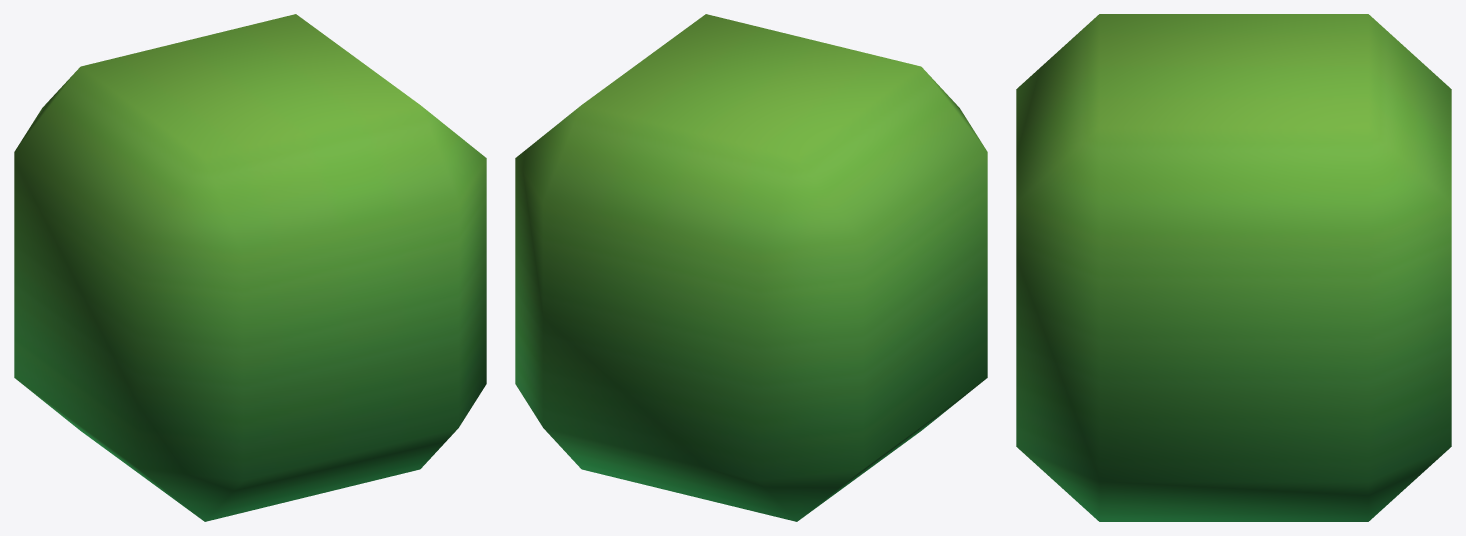
File: bush_2_a_color1.glb
3 views of the same model, side by side, from view 1: azimuth 30°, elevation 25°; view 2: azimuth 150°, elevation 25°; view 3: azimuth 270°, elevation 25° (orthographic). The views are drawn at different scales.
Visible parts, largest first — view 1: Bush_2_A_Color1; view 2: Bush_2_A_Color1; view 3: Bush_2_A_Color1.
Part boxes in pixels (x1,y1,x2,y2): Bush_2_A_Color1: [14, 14, 486, 521]; Bush_2_A_Color1: [515, 14, 987, 521]; Bush_2_A_Color1: [1016, 14, 1451, 521].
Size of the model in its own units: 0.528 by 0.528 by 0.528.
Materials: 1 (1 with a texture image).
